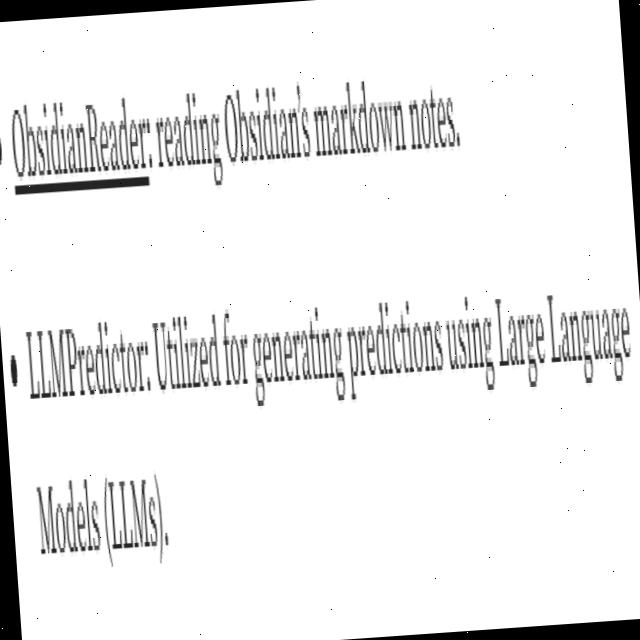word: (2, 70, 161, 218), (20, 295, 156, 421), (340, 289, 453, 429), (540, 259, 637, 403), (247, 293, 349, 419), (218, 68, 318, 196), (146, 288, 226, 435), (97, 444, 177, 584), (148, 68, 229, 204), (29, 440, 104, 582), (308, 69, 410, 169), (488, 268, 551, 407), (438, 285, 500, 405), (406, 61, 466, 169), (217, 298, 257, 421), (8, 321, 21, 405), (0, 105, 10, 188)
